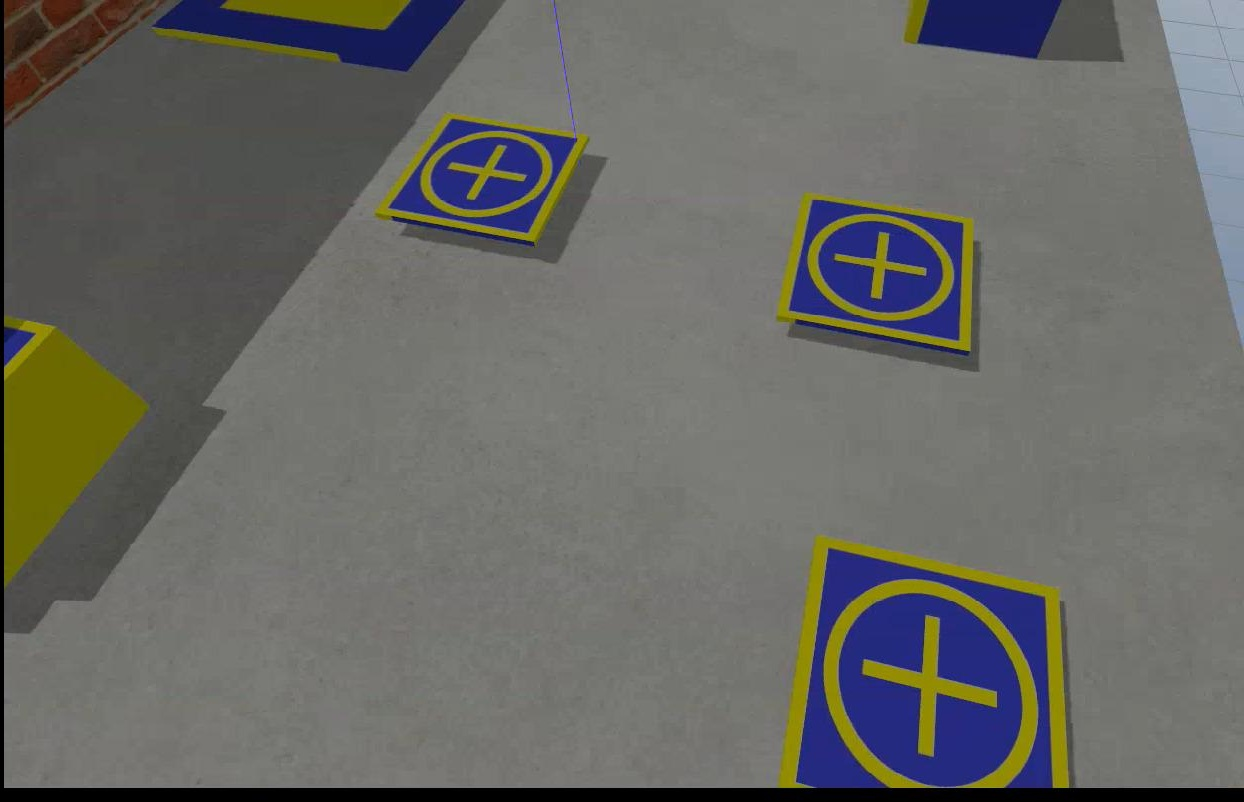large_base: (153, 1, 464, 69)
small_base: (781, 534, 1074, 792), (771, 197, 976, 360), (375, 114, 588, 245)
